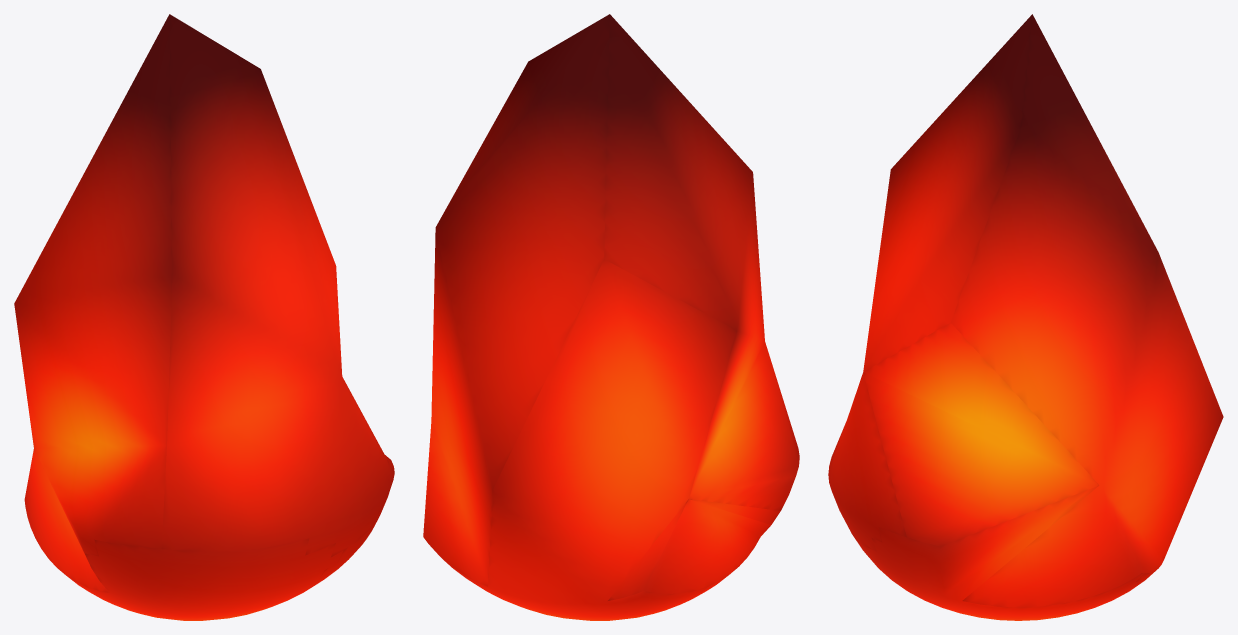
The model's file is fireFrame4.fbx.
3 renders of one model, left to right at view 1: azimuth 30°, elevation 25°; view 2: azimuth 150°, elevation 25°; view 3: azimuth 270°, elevation 25°, orthographic. The views are drawn at different scales.
Parts seen in each view (by area): view 1: fireFrame4_Baked; view 2: fireFrame4_Baked; view 3: fireFrame4_Baked.
Part boxes in pixels (box(x1,y1,x2,y2)): fireFrame4_Baked: box(14, 14, 394, 620); fireFrame4_Baked: box(423, 14, 799, 620); fireFrame4_Baked: box(828, 14, 1223, 620).
Bounding box in the file's own units: 141 × 250 × 155.
